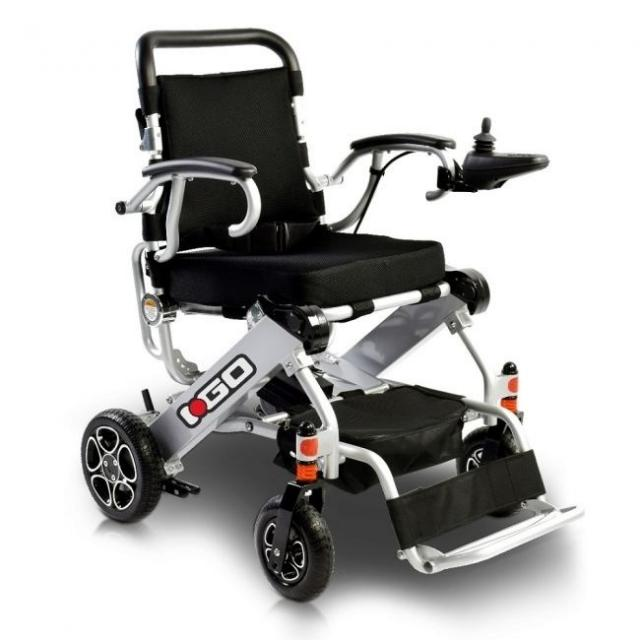wheelchair: (60, 14, 601, 609)
